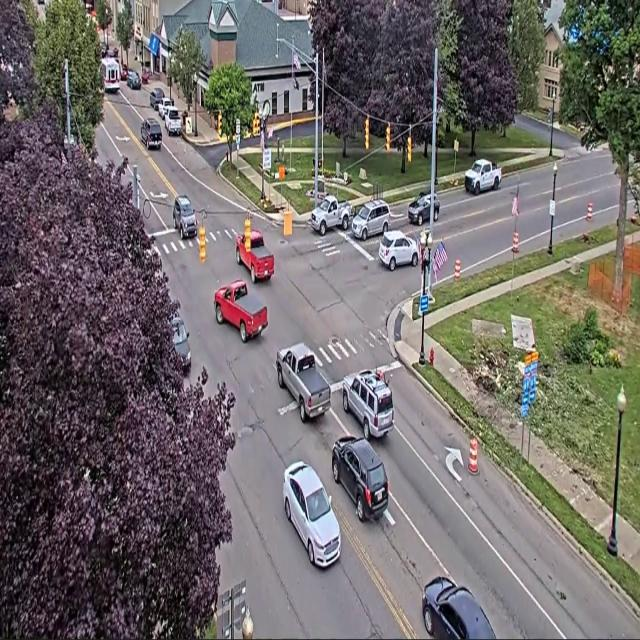car: (283, 462, 340, 567), (332, 436, 389, 521), (422, 577, 495, 639), (342, 370, 393, 439), (379, 231, 418, 271), (352, 200, 390, 240), (172, 315, 191, 371), (173, 195, 197, 239), (408, 192, 430, 225), (141, 119, 162, 149), (164, 107, 181, 135), (158, 97, 173, 119), (150, 88, 164, 111), (126, 71, 141, 89), (141, 69, 150, 84), (100, 42, 108, 57), (121, 64, 128, 80)
traffic signal: (244, 216, 251, 252), (199, 224, 205, 262), (252, 112, 259, 135), (365, 117, 369, 150), (386, 124, 390, 151), (407, 135, 411, 162), (548, 107, 553, 126), (218, 112, 221, 137)
truck: (276, 344, 330, 422), (215, 280, 267, 343), (236, 231, 274, 283), (310, 195, 352, 236), (465, 160, 501, 195)
